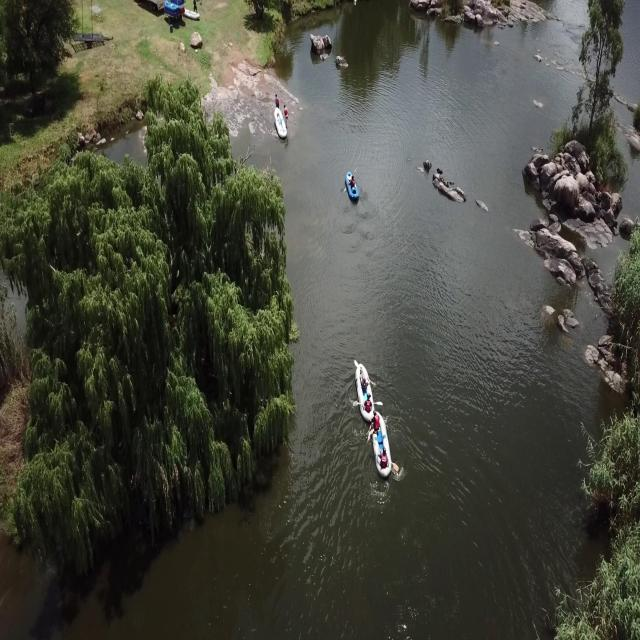kayak: (353, 354, 383, 422), (370, 409, 399, 479), (343, 167, 360, 204)
